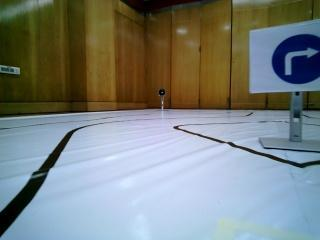right: (253, 25, 320, 93)
